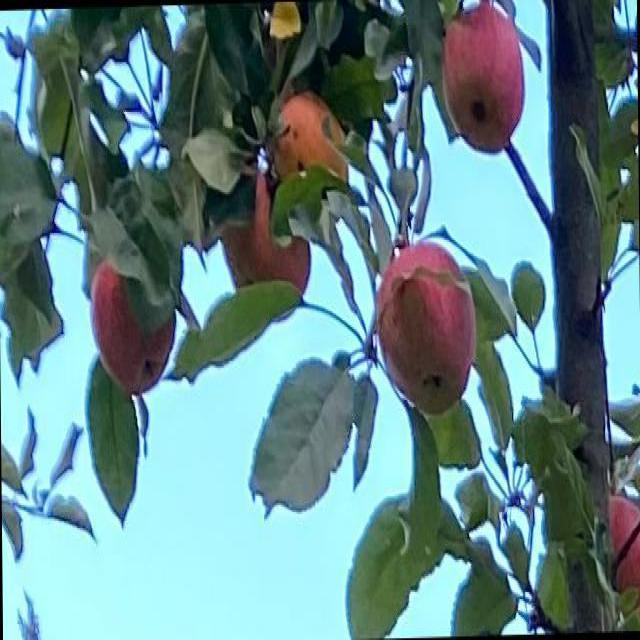Apple: (375, 242, 476, 409), (221, 170, 311, 322), (443, 1, 524, 152), (90, 258, 176, 393)
Mango: (270, 92, 348, 199)
